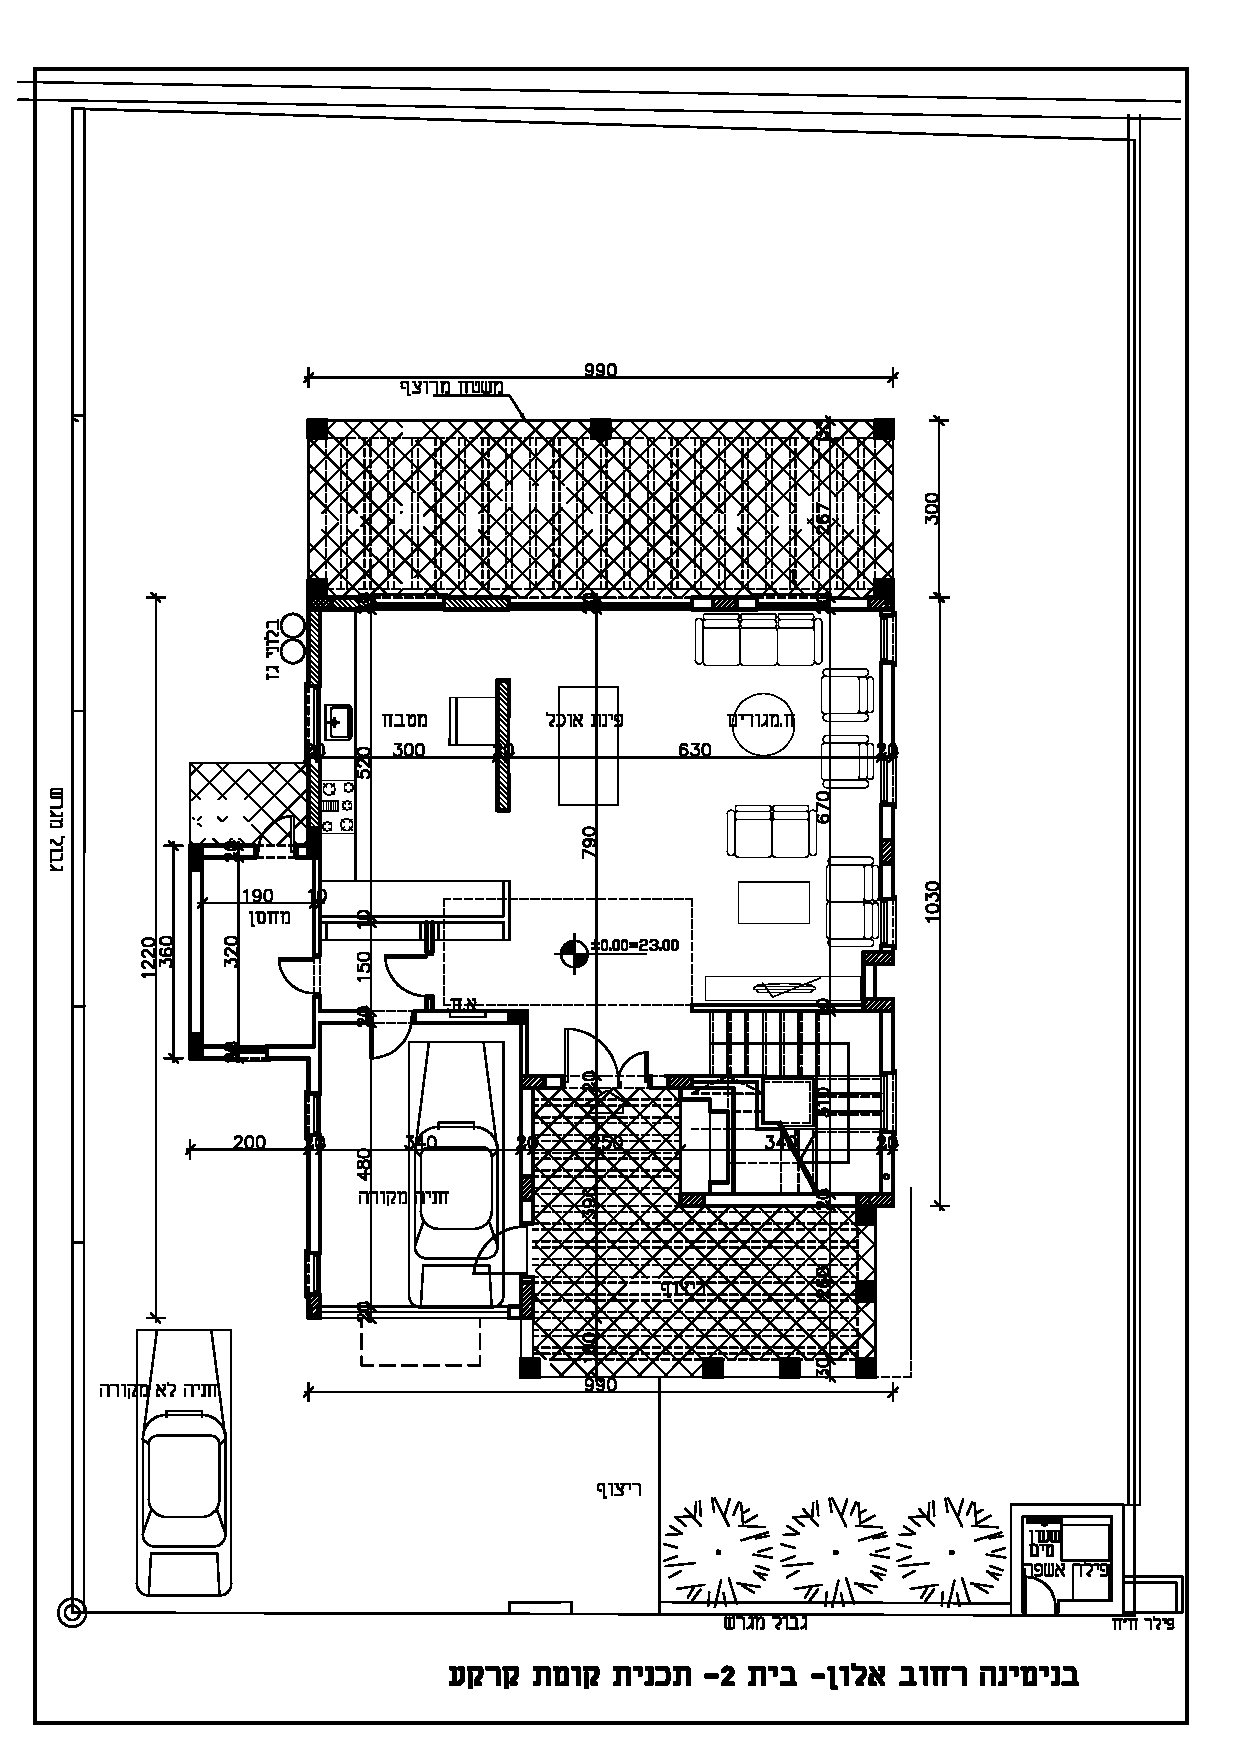door: (378, 945, 423, 1004), (268, 947, 311, 1007)
